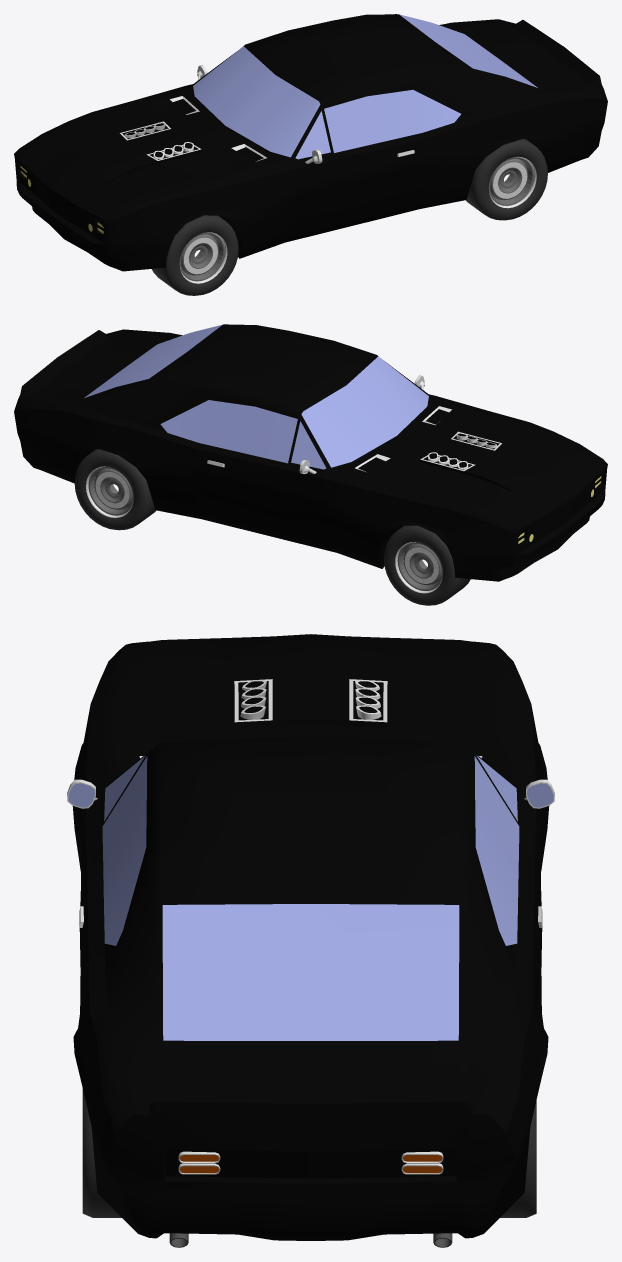
The model's file is car.fbx.
The picture shows the model from 3 angles, top to bottom: view 1: azimuth 30°, elevation 25°; view 2: azimuth 150°, elevation 25°; view 3: azimuth 270°, elevation 25°; orthographic projection. The views are drawn at different scales.
Parts seen in each view (by area): view 1: Body, RearLeftWheel, FrontLeftWheel; view 2: Body, RearRightWheel, FrontRightWheel; view 3: Body, RearLeftWheel, RearRightWheel.
Boxes of the visible parts, left/top/right/bottom form: Body: left=14, top=14, right=607, bottom=271; RearLeftWheel: left=466, top=139, right=547, bottom=220; FrontLeftWheel: left=152, top=215, right=238, bottom=295; Body: left=14, top=324, right=607, bottom=581; RearRightWheel: left=74, top=449, right=156, bottom=530; FrontRightWheel: left=384, top=525, right=470, bottom=605; Body: left=67, top=634, right=554, bottom=1247; RearLeftWheel: left=82, top=1089, right=121, bottom=1217; RearRightWheel: left=500, top=1100, right=536, bottom=1217.
Bounding box in the file's own units: 610 × 174 × 251.
